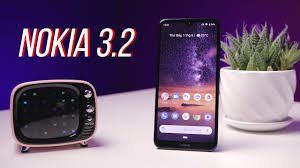nokia: (145, 15, 226, 153)
